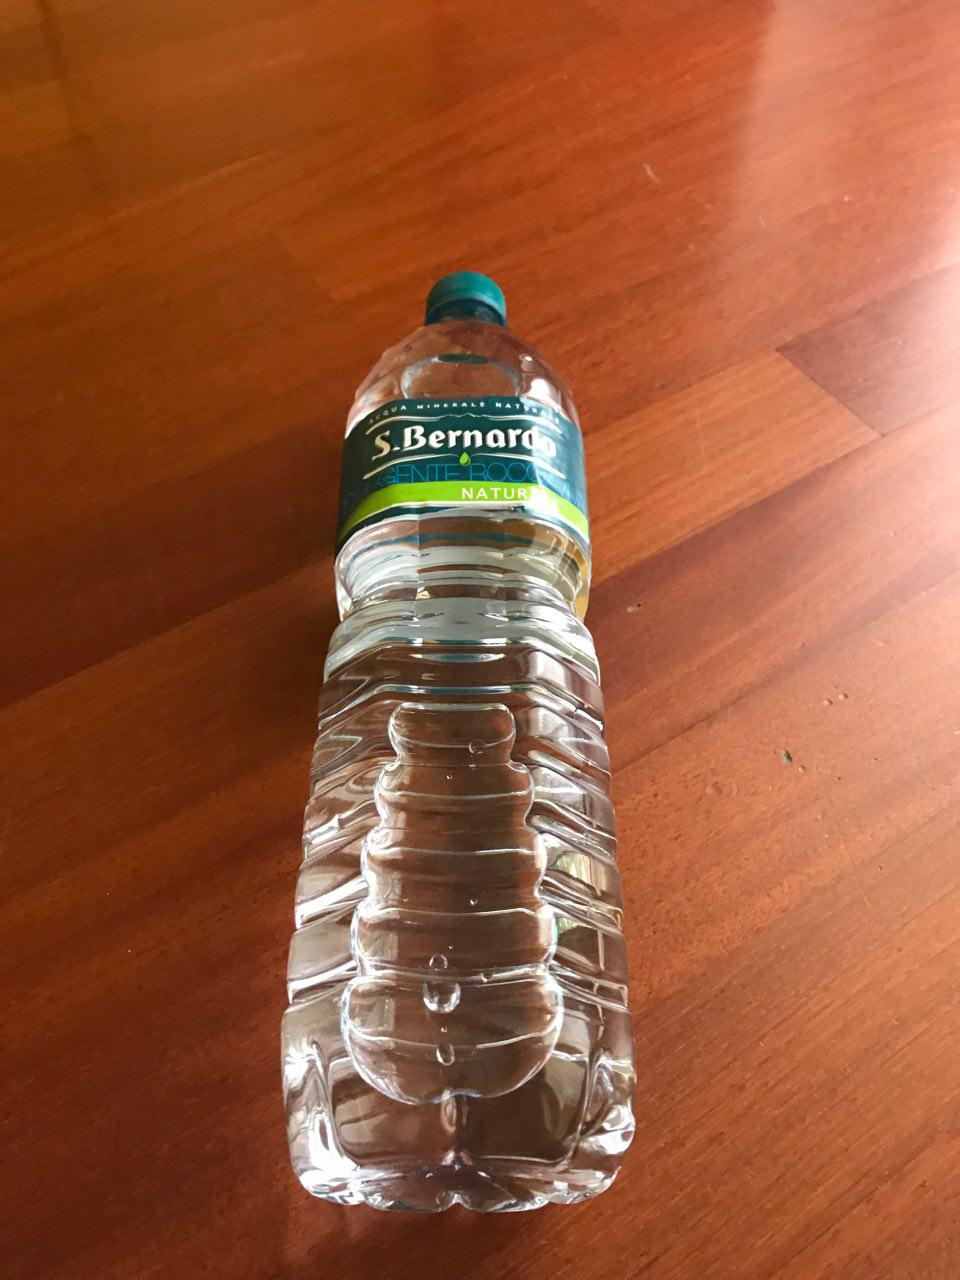san_bernardo: (275, 270, 640, 1219)
